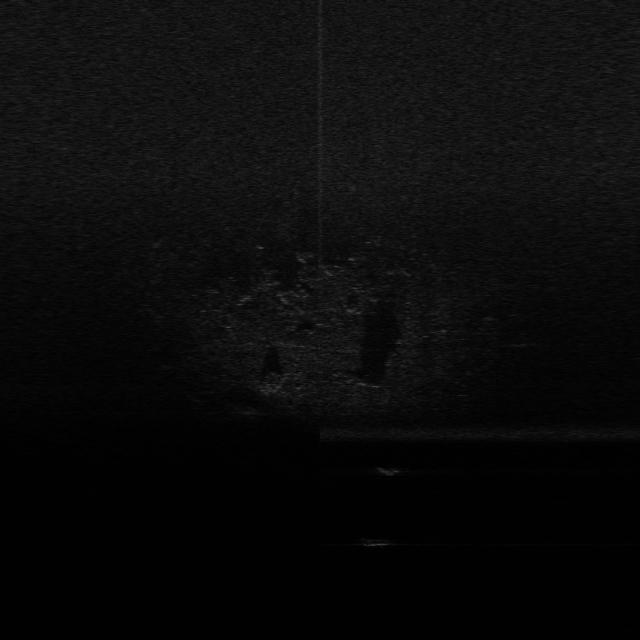cube: (357, 536, 393, 548)
square cage: (372, 464, 403, 477)
